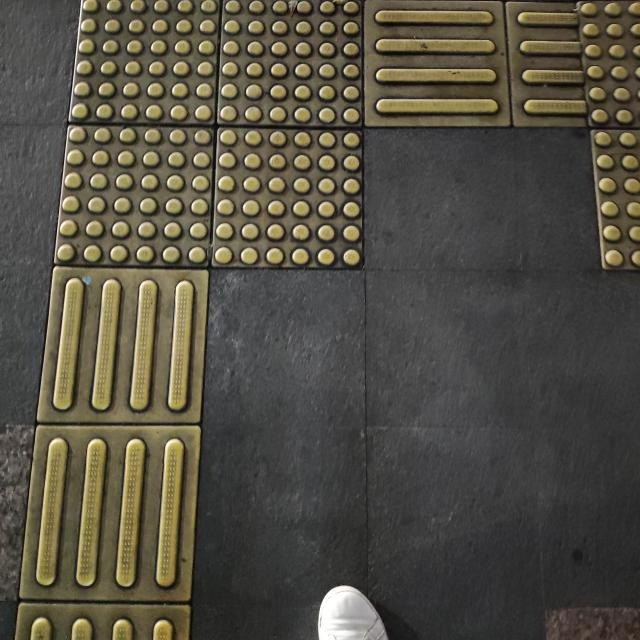kanan: (0, 0, 608, 360)
